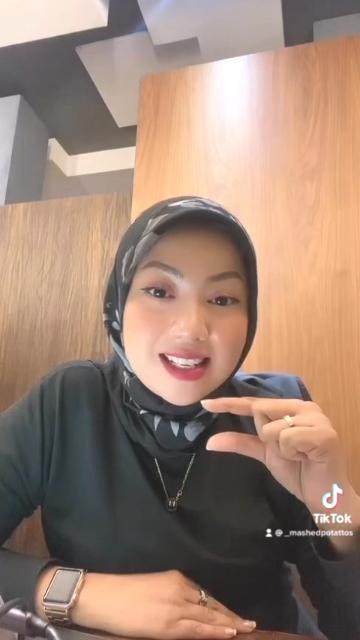G: (198, 396, 342, 488)
